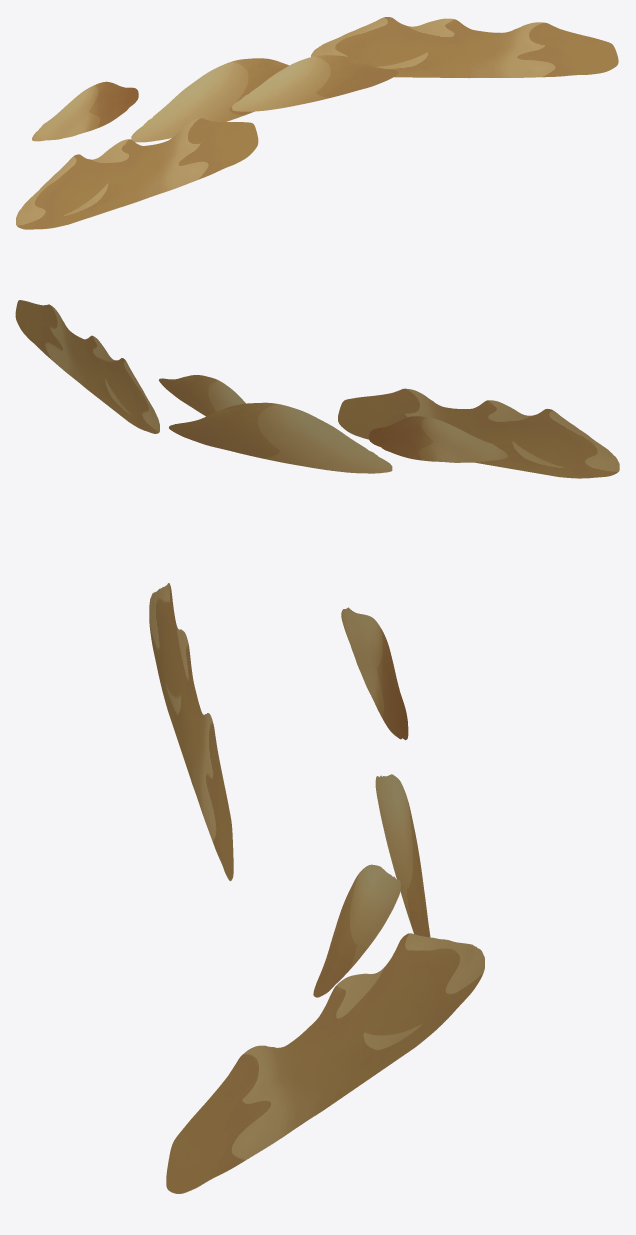
Rendered from Area_14_1.fbx.
3 renders of one model, top to bottom at view 1: azimuth 30°, elevation 25°; view 2: azimuth 150°, elevation 25°; view 3: azimuth 270°, elevation 25°, orthographic. The views are drawn at different scales.
Visible parts, largest first — view 1: Area_14_1; view 2: Area_14_1; view 3: Area_14_1.
Boxes of the visible parts, x1,y1,x2,y2 form: Area_14_1: (16, 17, 618, 229); Area_14_1: (15, 300, 619, 478); Area_14_1: (149, 583, 484, 1193).
Size of the model in its own units: 30190 by 4632 by 7329.
1 material, 1 textured.
